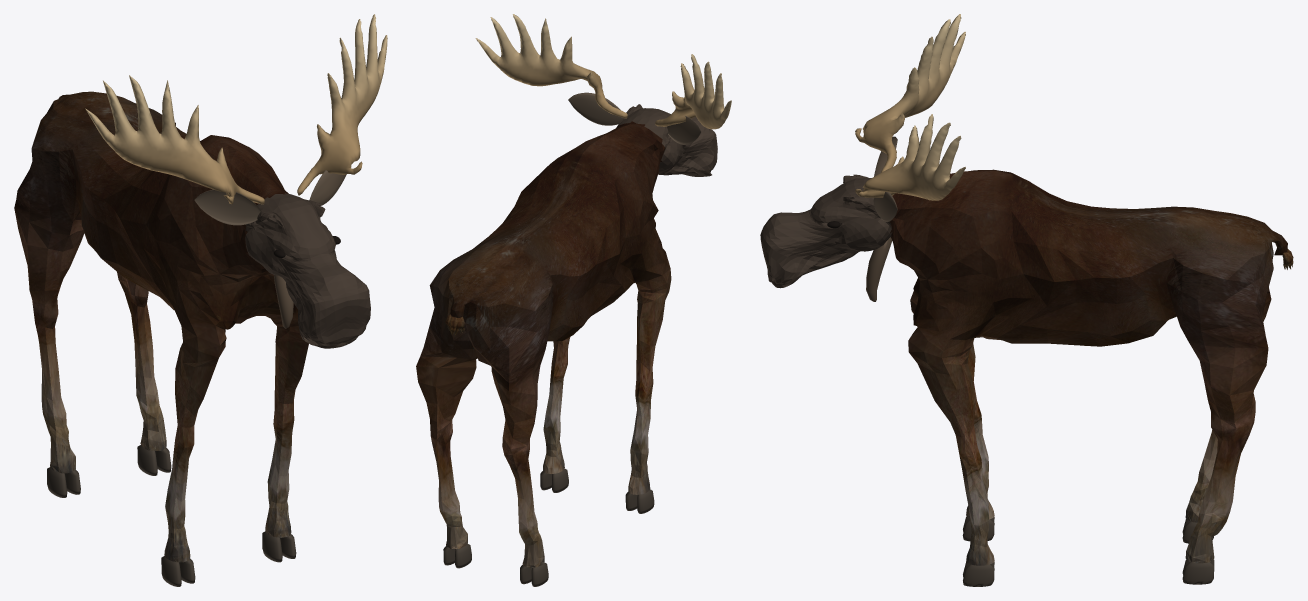
File: moose-from-horse-static.glb
3 renders of one model, left to right at view 1: azimuth 30°, elevation 25°; view 2: azimuth 150°, elevation 25°; view 3: azimuth 270°, elevation 25°, orthographic. The views are drawn at different scales.
Parts seen in each view (by area): view 1: Plane, Moose_antler_0, Moose_antler_1, Moose_broad_ear_-1, Moose_broad_ear_1, Moose_throat_bell, Moose_hoof_hind_left_-1, Moose_hoof_fore_left_-1, Moose_hoof_fore_right_-1; view 2: Plane, Moose_antler_1, Moose_antler_0, Moose_broad_ear_1, Moose_broad_ear_-1; view 3: Plane, Moose_antler_0, Moose_antler_1, Moose_throat_bell.
Boxes of the visible parts, bbox=[...] form: Plane: bbox=[14, 91, 370, 562]; Moose_antler_0: bbox=[85, 75, 264, 204]; Moose_antler_1: bbox=[297, 14, 387, 195]; Moose_broad_ear_-1: bbox=[194, 189, 261, 225]; Moose_broad_ear_1: bbox=[309, 170, 346, 205]; Moose_throat_bell: bbox=[274, 275, 293, 328]; Moose_hoof_hind_left_-1: bbox=[137, 445, 157, 475]; Moose_hoof_fore_left_-1: bbox=[262, 531, 282, 562]; Moose_hoof_fore_right_-1: bbox=[161, 556, 181, 586]; Plane: bbox=[416, 104, 717, 567]; Moose_antler_1: bbox=[475, 14, 627, 118]; Moose_antler_0: bbox=[655, 54, 731, 129]; Moose_broad_ear_1: bbox=[568, 92, 622, 125]; Moose_broad_ear_-1: bbox=[667, 116, 700, 144]; Plane: bbox=[760, 169, 1287, 565]; Moose_antler_0: bbox=[855, 14, 965, 172]; Moose_antler_1: bbox=[855, 114, 965, 200]; Moose_throat_bell: bbox=[866, 237, 892, 301].
Bounding box in the file's own units: 1.73 × 2.92 × 2.89.
Materials: 8 (2 with a texture image).
